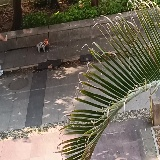fire: (44, 38, 48, 45)
